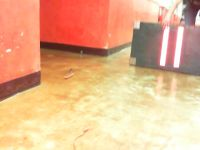switch: (173, 26, 184, 68), (159, 26, 170, 66)
